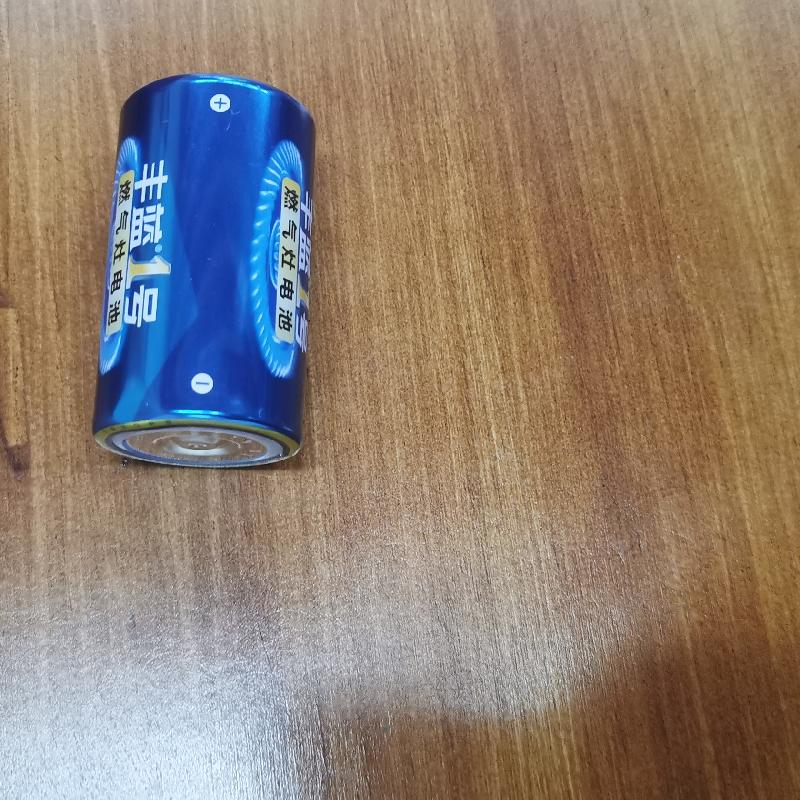battery: (86, 72, 316, 475)
